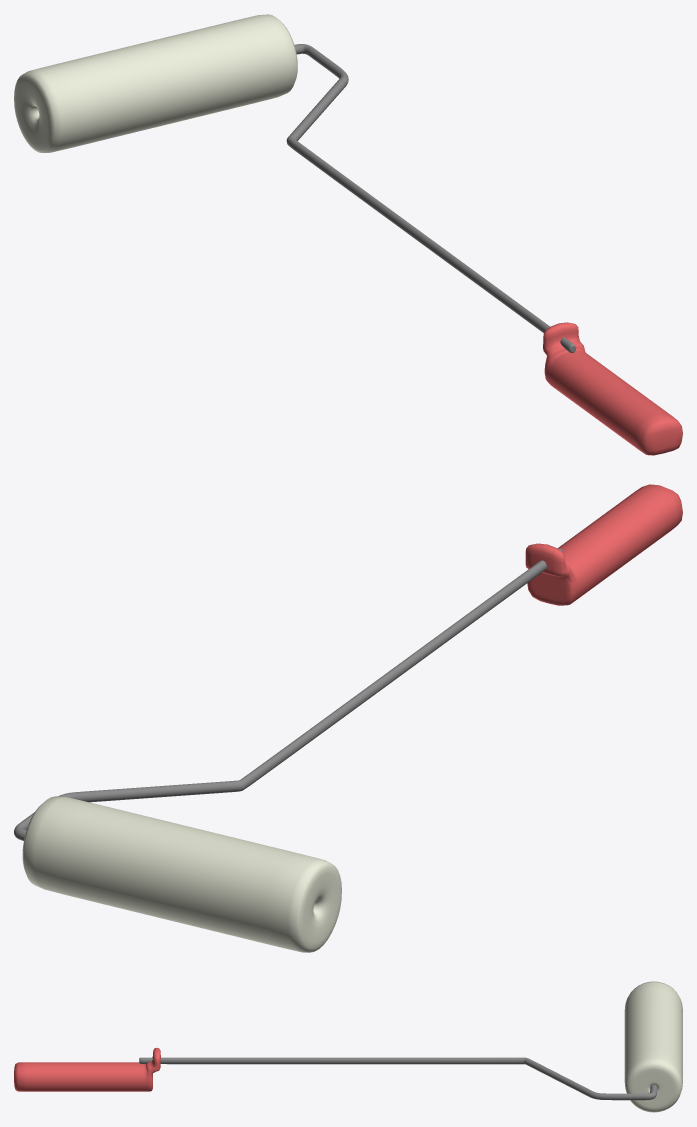
The model's file is paint roller 1.fbx.
3 views of the same model, one above another, from view 1: azimuth 30°, elevation 25°; view 2: azimuth 150°, elevation 25°; view 3: azimuth 270°, elevation 25° (orthographic). The views are drawn at different scales.
Parts seen in each view (by area): view 1: Roller, Handle, Middle; view 2: Roller, Handle, Middle; view 3: Roller, Handle, Middle.
Part boxes in pixels (box(x1,y1,x2,y2)): Roller: box(14, 14, 297, 152); Handle: box(543, 322, 682, 455); Middle: box(286, 44, 575, 352); Roller: box(22, 796, 341, 952); Handle: box(525, 484, 682, 605); Middle: box(14, 548, 563, 840); Roller: box(624, 981, 682, 1112); Handle: box(14, 1048, 160, 1091); Middle: box(139, 1057, 657, 1100).
Size of the model in its own units: 27.66 by 7.52 by 84.94.
